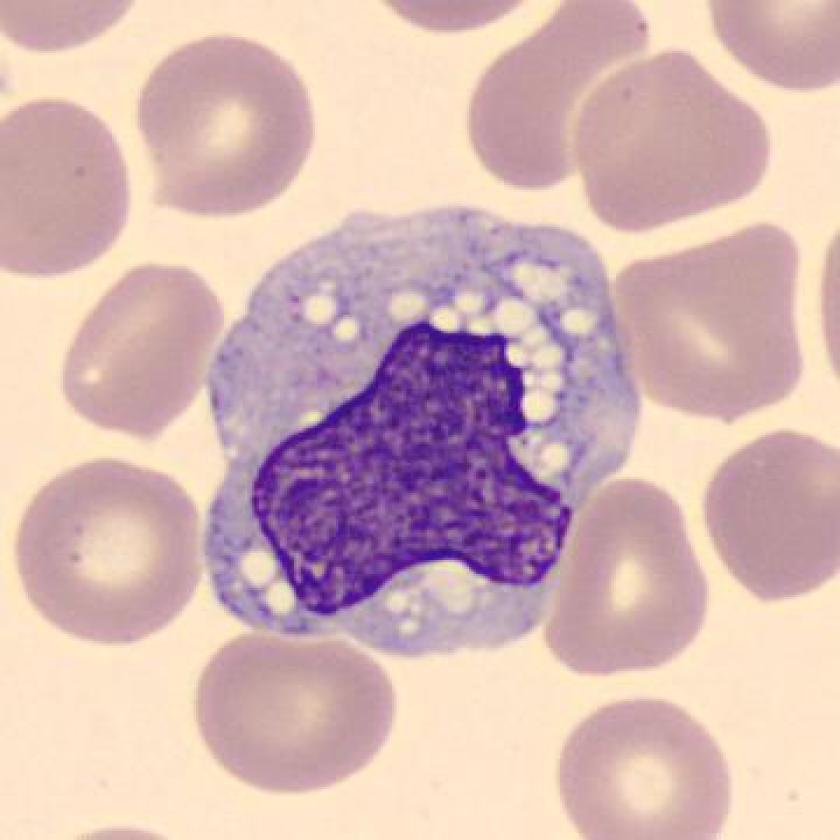monocyte: (181, 188, 659, 677)
